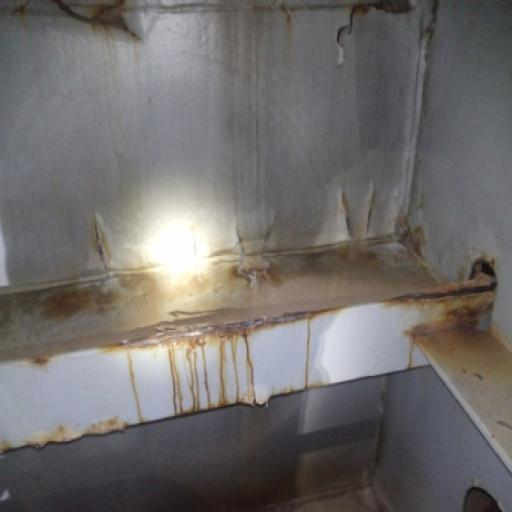Detect-rust-on-metal-surfaces: (1, 231, 507, 453), (2, 0, 422, 59)
